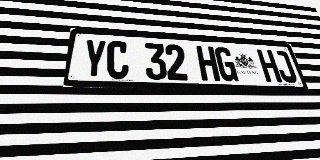2: (164, 44, 188, 80)
3: (144, 43, 167, 80)
C: (106, 40, 129, 79)
G: (214, 47, 239, 81)
H: (256, 49, 282, 82), (196, 46, 220, 81)
J: (272, 50, 298, 83)
Y: (81, 39, 107, 79)
